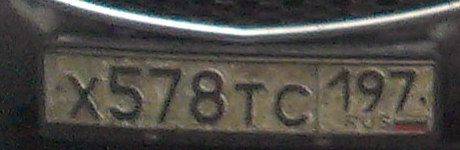character: (109, 61, 145, 124), (148, 61, 182, 127), (189, 68, 227, 126), (66, 69, 103, 125), (274, 77, 312, 131), (232, 76, 268, 128), (356, 63, 386, 113), (389, 67, 418, 113), (326, 66, 354, 111)
